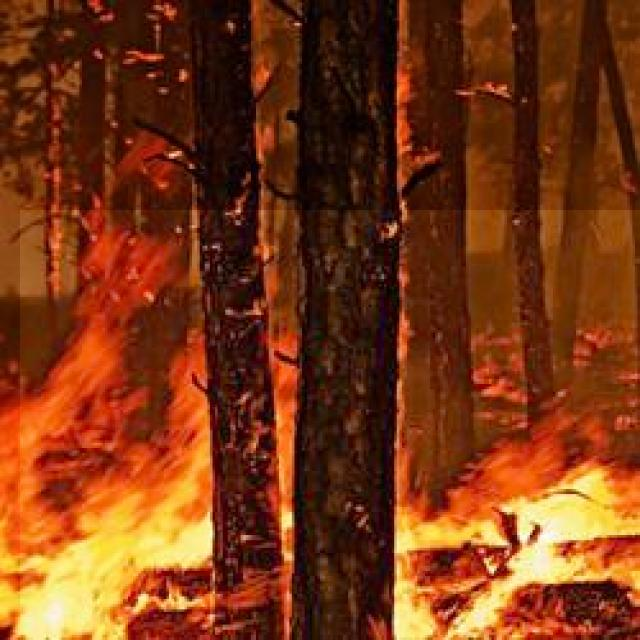Fire: (20, 210, 640, 640)
